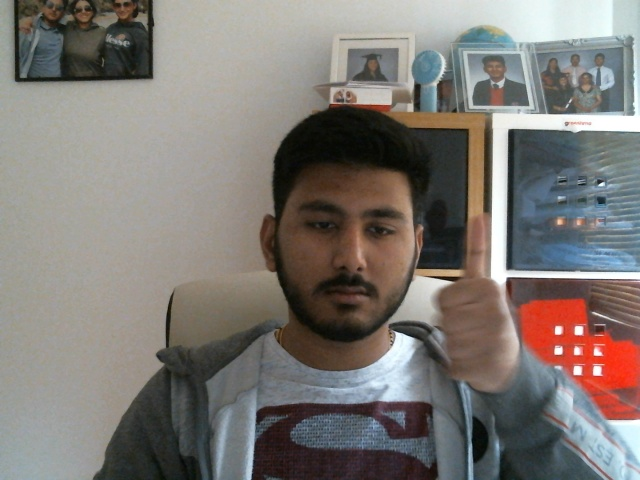good: (435, 211, 515, 382)
